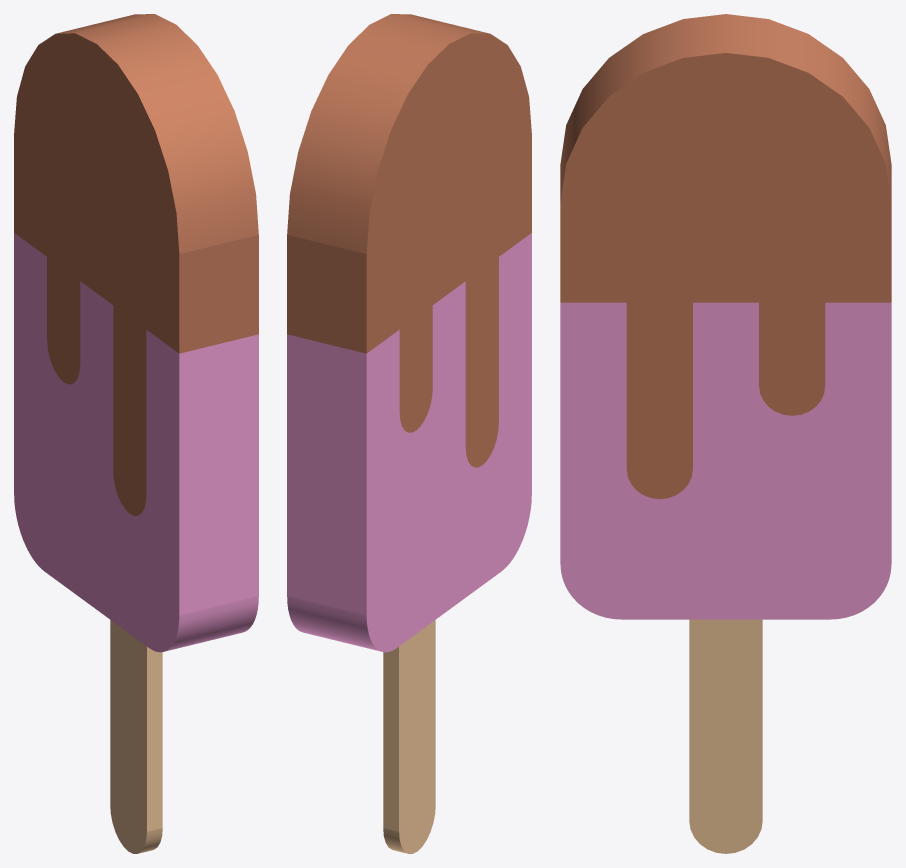
File: popsicleChocolate.GLB
3 views of the same model, side by side, from view 1: azimuth 30°, elevation 25°; view 2: azimuth 150°, elevation 25°; view 3: azimuth 270°, elevation 25° (orthographic).
Visible parts, largest first — view 1: popsicleChocolate; view 2: popsicleChocolate; view 3: popsicleChocolate.
Boxes of the visible parts, x1,y1,x2,y2 form: popsicleChocolate: (14, 14, 258, 853); popsicleChocolate: (287, 14, 531, 853); popsicleChocolate: (560, 14, 891, 853).
Bounding box in the file's own units: 0.05 × 0.49 × 0.18.
